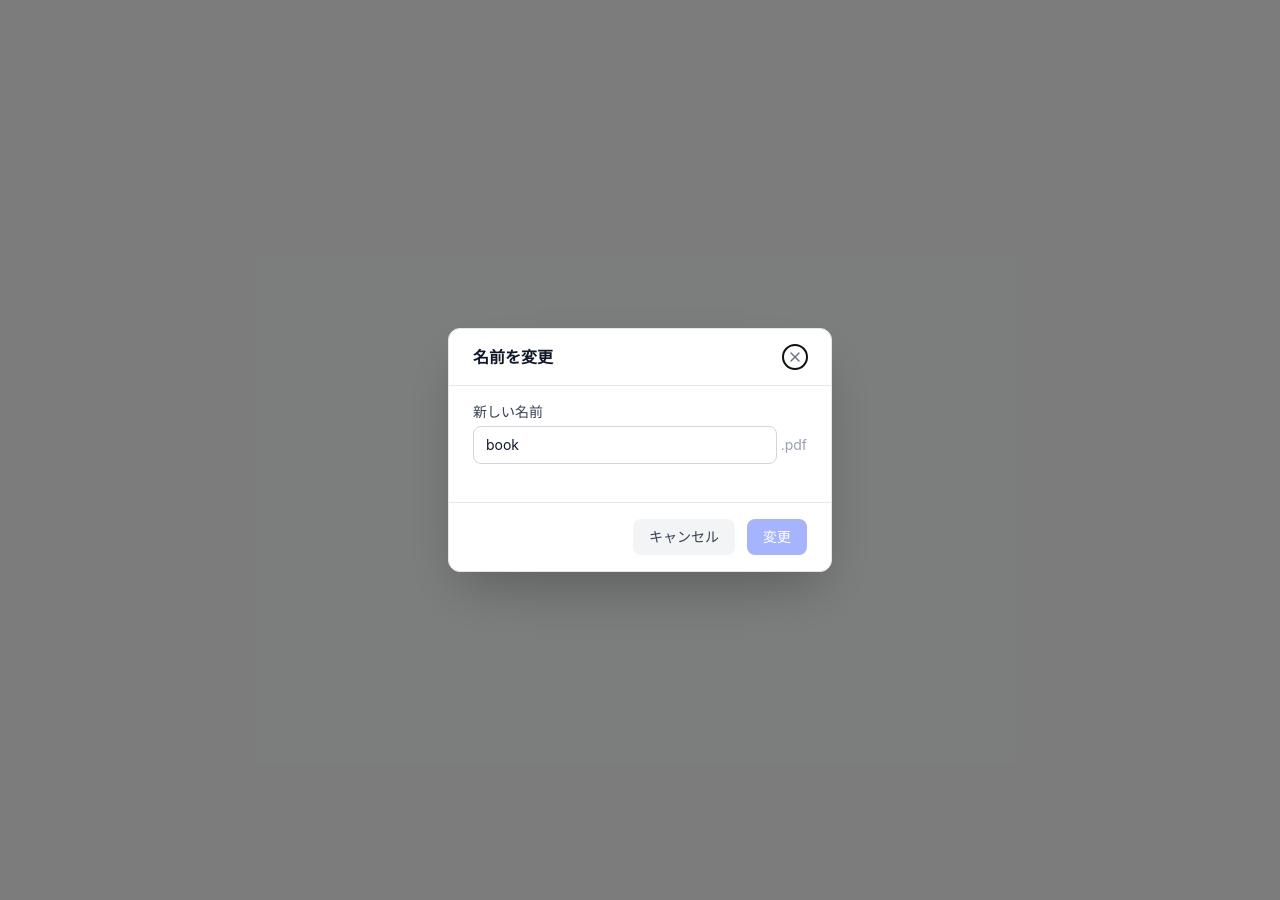
Test: RenameDialog › 別名を入力すると変更ボタンが有効化
Replace the text in the field labelled "新しい名前" with "newname" at (625, 445), box [473,426,777,464]
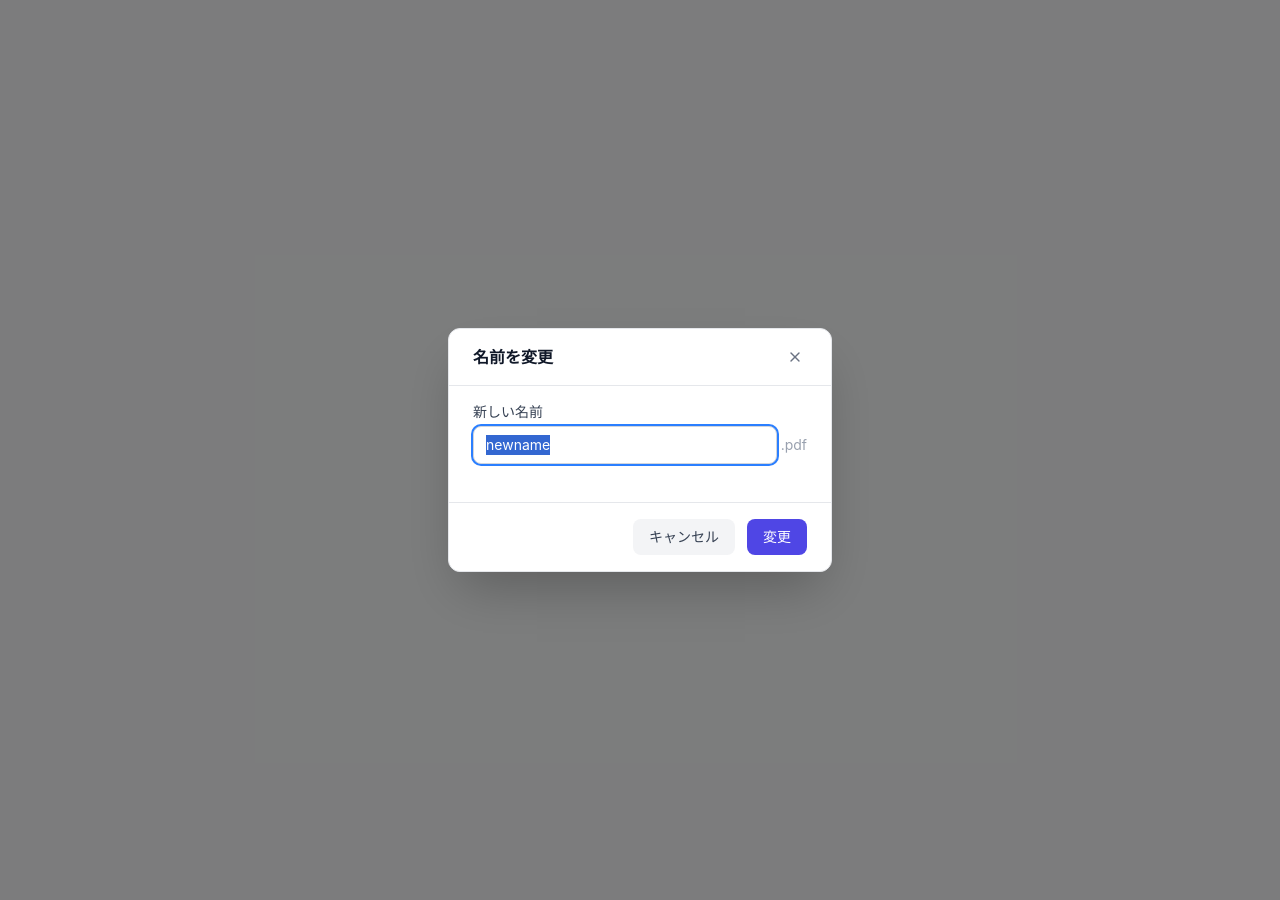
Now the button "変更" is enabled, box [747,519,807,555]
